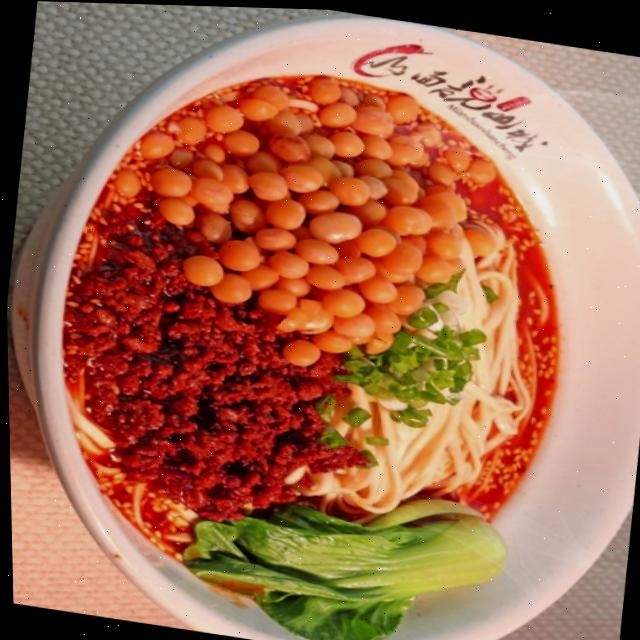面条主食: (40, 16, 626, 640)
